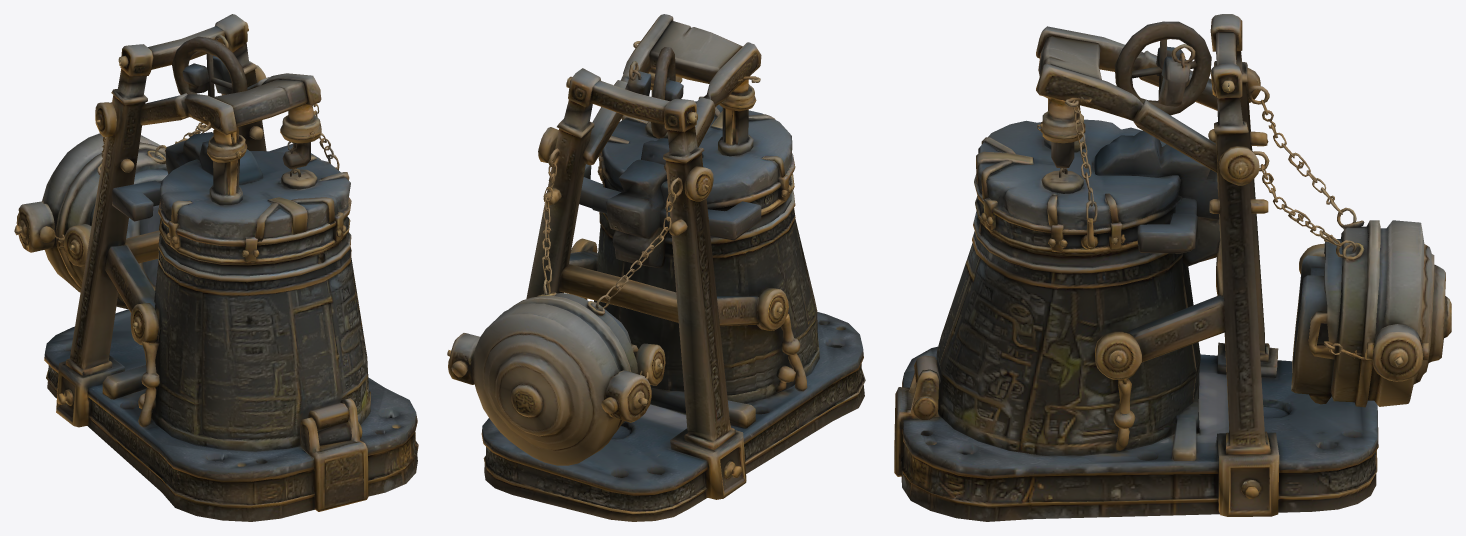
The model's file is ch2_hydraulic_counterweight_machine_LOD0.glb.
3 renders of one model, left to right at view 1: azimuth 30°, elevation 25°; view 2: azimuth 150°, elevation 25°; view 3: azimuth 270°, elevation 25°, orthographic. The views are drawn at different scales.
Visible parts, largest first — view 1: tripo_node_0e10ad17-c052-4b98-85d4-967bdcf32665; view 2: tripo_node_0e10ad17-c052-4b98-85d4-967bdcf32665; view 3: tripo_node_0e10ad17-c052-4b98-85d4-967bdcf32665.
Boxes of the visible parts, x1,y1,x2,y2 form: tripo_node_0e10ad17-c052-4b98-85d4-967bdcf32665: [14, 14, 418, 521]; tripo_node_0e10ad17-c052-4b98-85d4-967bdcf32665: [447, 14, 865, 521]; tripo_node_0e10ad17-c052-4b98-85d4-967bdcf32665: [894, 14, 1451, 521].
Size of the model in its own units: 0.5605 by 0.8535 by 0.998.
Materials: 1 (1 with a texture image).
